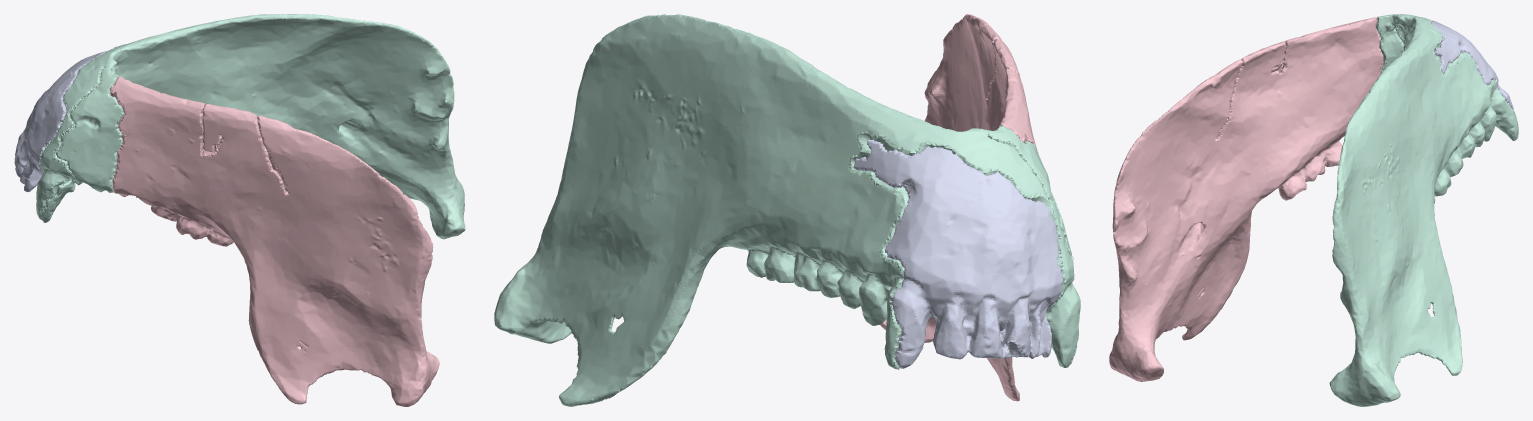
File: 73544_colored.glb
The picture shows the model from 3 angles, left to right: view 1: azimuth 30°, elevation 25°; view 2: azimuth 150°, elevation 25°; view 3: azimuth 270°, elevation 25°; orthographic projection. The views are drawn at different scales.
Parts seen in each view (by area): view 1: world; view 2: world; view 3: world.
Part boxes in pixels (box(x1,y1,x2,y2)): world: box(14, 14, 465, 406); world: box(494, 14, 1080, 406); world: box(1109, 14, 1518, 406).
Bounding box in the file's own units: 1 × 0.6996 × 0.8612.
